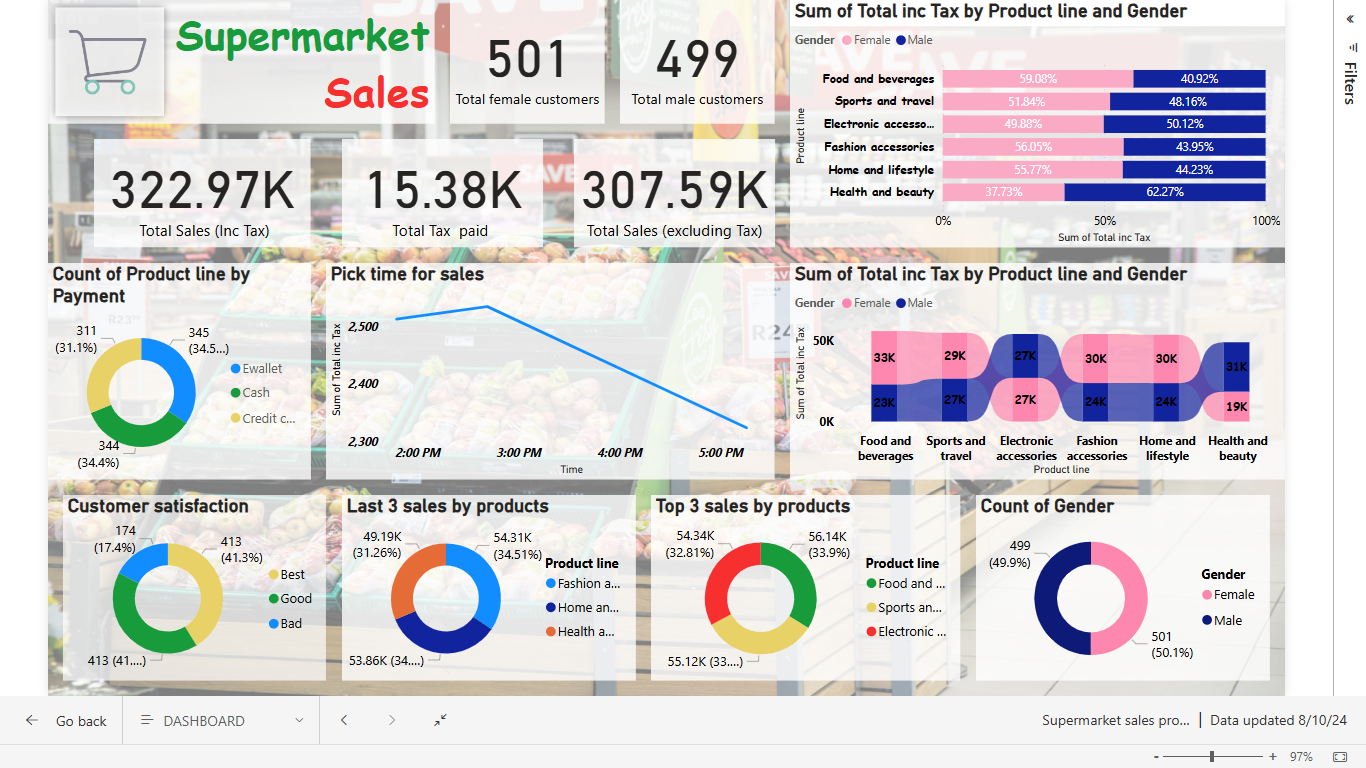

This screenshot's page, from the dashboard's own definition file:
{"tool":"powerbi","page":{"name":"DASHBOARD","canvas":[1280,720],"ordinal":3},"visuals":[{"type":"ribbonChart","fields":{"Category":["supermarket_sales.Product line"],"Y":["Sum(supermarket_sales.Total inc Tax)"],"Series":["supermarket_sales.Gender"]},"box":[768,272,512,224],"z":0},{"type":"hundredPercentStackedBarChart","fields":{"Category":["supermarket_sales.Product line"],"Y":["Sum(supermarket_sales.Total inc Tax)"],"Series":["supermarket_sales.Gender"]},"box":[768,0,512,256],"z":1000},{"type":"donutChart","fields":{"Y":["CountNonNull(supermarket_sales.Product line)"],"Category":["supermarket_sales.Payment"]},"box":[0,272,272,224],"z":2000},{"type":"donutChart","title":"Customer satisfaction","fields":{"Category":["supermarket_sales.Customer satisfection"],"Y":["CountNonNull(supermarket_sales.Customer satisfection)"]},"box":[16,512,272,192],"z":3000},{"type":"donutChart","title":"Top 3 sales by products","fields":{"Category":["supermarket_sales.Product line"],"Y":["supermarket_sales.Tax+product costs(calculated)"]},"box":[624,512,320,192],"z":4000},{"type":"donutChart","title":"Last  3 sales by products","fields":{"Category":["supermarket_sales.Product line"],"Y":["supermarket_sales.Tax+product costs(calculated)"]},"box":[304,512,304,192],"z":5000},{"type":"donutChart","title":"Count of Gender ","fields":{"Category":["supermarket_sales.Gender"],"Y":["CountNonNull(supermarket_sales.Gender)"]},"box":[960,512,304,192],"z":6000},{"type":"card","fields":{"Values":["CountNonNull(supermarket_sales.Gender)"]},"box":[416,0,160,128],"z":7000},{"type":"card","fields":{"Values":["CountNonNull(supermarket_sales.Gender)"]},"box":[592,0,160,128],"z":8000},{"type":"card","fields":{"Values":["Sum(supermarket_sales.Total inc Tax)"]},"box":[48,144,224,112],"z":9000},{"type":"card","fields":{"Values":["supermarket_sales.only product costs (calculated)"]},"box":[544,144,208,112],"z":10000},{"type":"card","fields":{"Values":["Sum(supermarket_sales.Tax 5%)"]},"box":[304,144,208,112],"z":11000},{"type":"textbox","box":[0,0,400,128],"z":12000},{"type":"lineChart","title":"Pick time for sales","fields":{"Category":["supermarket_sales.Time"],"Y":["Sum(supermarket_sales.Total inc Tax)"]},"box":[288,272,464,224],"z":13000},{"type":"actionButton","box":[0,0,128,128],"z":14000}]}

Visuals, with their boxes on the page's 1280x720 design canvas (x1, y1, x2, y2). These are canvas units, not pixel positions in the 1366x768 screenshot, which may show the page scaled, cropped or inside an application window:
ribbonChart - supermarket_sales.Product line x Sum(supermarket_sales.Total inc Tax): x1=768, y1=272, x2=1280, y2=496
hundredPercentStackedBarChart - supermarket_sales.Product line x Sum(supermarket_sales.Total inc Tax): x1=768, y1=0, x2=1280, y2=256
donutChart - CountNonNull(supermarket_sales.Product line) x supermarket_sales.Payment: x1=0, y1=272, x2=272, y2=496
"Customer satisfaction" donutChart: x1=16, y1=512, x2=288, y2=704
"Top 3 sales by products" donutChart: x1=624, y1=512, x2=944, y2=704
"Last  3 sales by products" donutChart: x1=304, y1=512, x2=608, y2=704
"Count of Gender " donutChart: x1=960, y1=512, x2=1264, y2=704
card - CountNonNull(supermarket_sales.Gender): x1=416, y1=0, x2=576, y2=128
card - CountNonNull(supermarket_sales.Gender): x1=592, y1=0, x2=752, y2=128
card - Sum(supermarket_sales.Total inc Tax): x1=48, y1=144, x2=272, y2=256
card - supermarket_sales.only product costs (calculated): x1=544, y1=144, x2=752, y2=256
card - Sum(supermarket_sales.Tax 5%): x1=304, y1=144, x2=512, y2=256
textbox: x1=0, y1=0, x2=400, y2=128
"Pick time for sales" lineChart: x1=288, y1=272, x2=752, y2=496
actionButton: x1=0, y1=0, x2=128, y2=128
